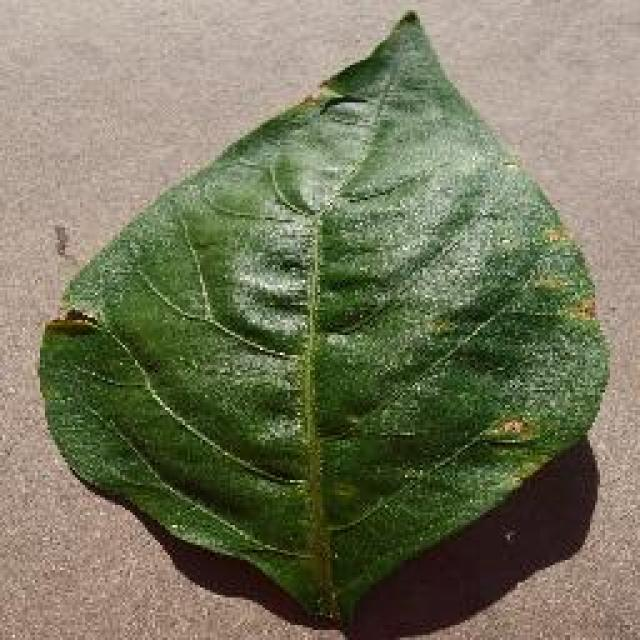Chilli_Bacterial_Spot: (32, 5, 612, 633), (480, 410, 535, 448), (42, 302, 100, 338), (422, 308, 460, 342), (562, 293, 600, 325), (530, 270, 570, 300), (492, 412, 530, 440), (58, 305, 98, 330), (540, 222, 568, 248)
